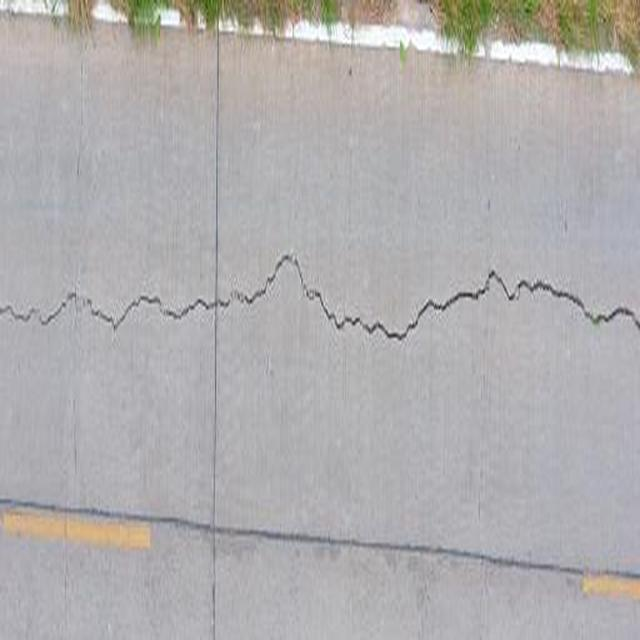minor crack: (452, 28, 507, 638), (234, 253, 307, 305), (414, 279, 497, 320), (363, 308, 423, 341), (85, 299, 130, 327), (492, 274, 524, 302), (596, 305, 636, 324), (130, 291, 166, 310)
moderate crack: (65, 10, 96, 586), (207, 8, 222, 617), (412, 570, 432, 614), (404, 552, 435, 575), (226, 286, 254, 306), (108, 319, 117, 343), (305, 288, 317, 301)
severe crack: (0, 290, 98, 327), (0, 494, 24, 506)
